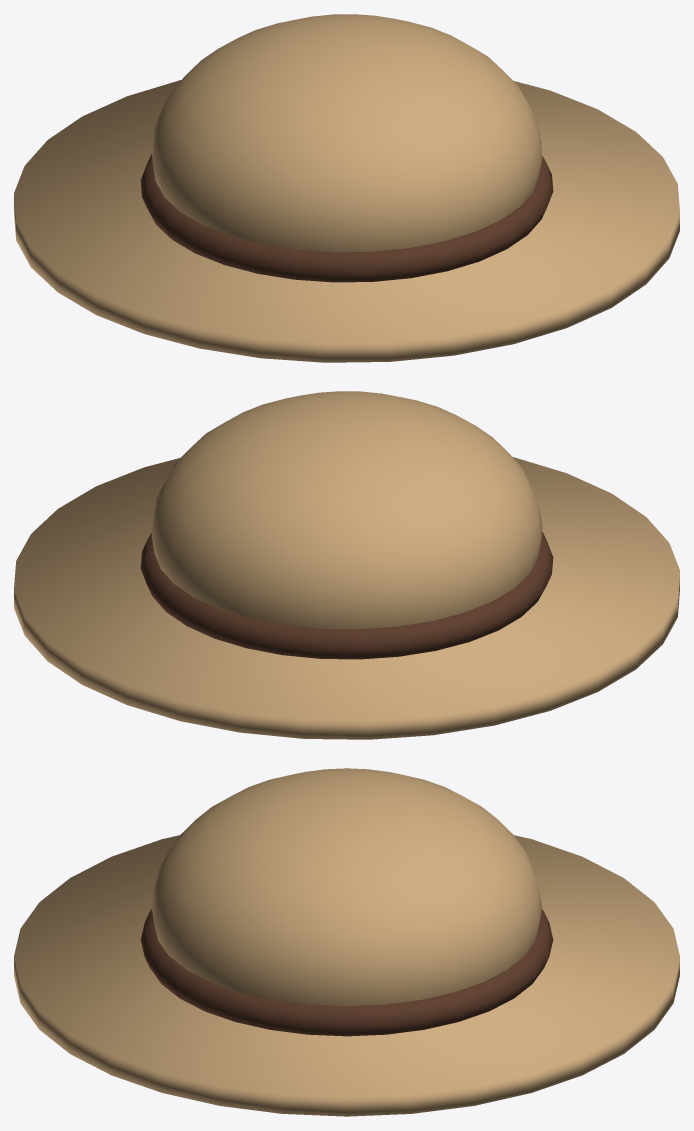
File: hat_explorer.glb
3 renders of one model, top to bottom at view 1: azimuth 30°, elevation 25°; view 2: azimuth 150°, elevation 25°; view 3: azimuth 270°, elevation 25°, orthographic.
Parts seen in each view (by area): view 1: brim, crown, band; view 2: brim, crown, band; view 3: brim, crown, band.
Boxes of the visible parts, x1,y1,x2,y2 form: brim: [14, 80, 679, 362]; crown: [151, 14, 542, 252]; band: [140, 154, 553, 282]; brim: [14, 457, 679, 739]; crown: [151, 391, 542, 629]; band: [140, 531, 553, 659]; brim: [14, 835, 679, 1116]; crown: [151, 768, 542, 1006]; band: [140, 909, 553, 1036].
Size of the model in its own units: 0.92 by 0.34 by 0.92.
